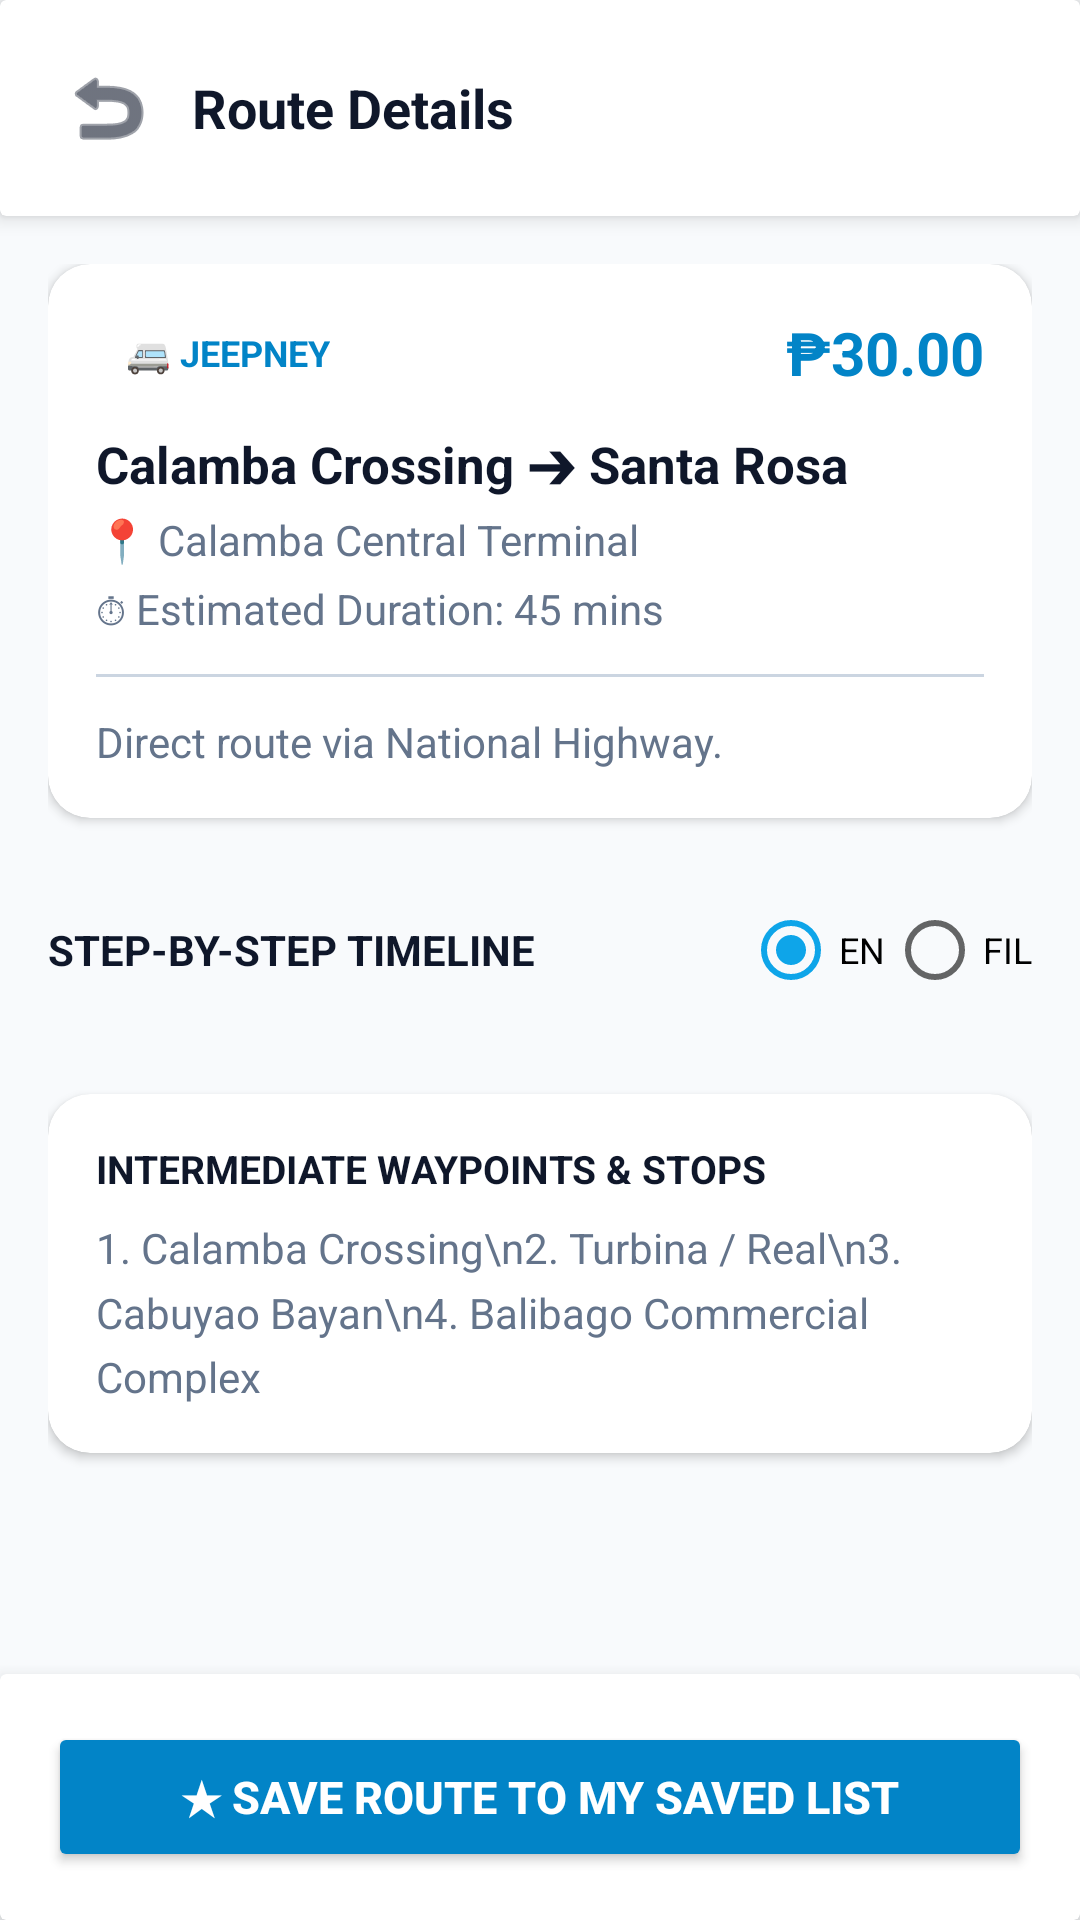

Point at icon controls on the screen. Image size 1080×1920, points as (x,y).
revert: (109,108)
